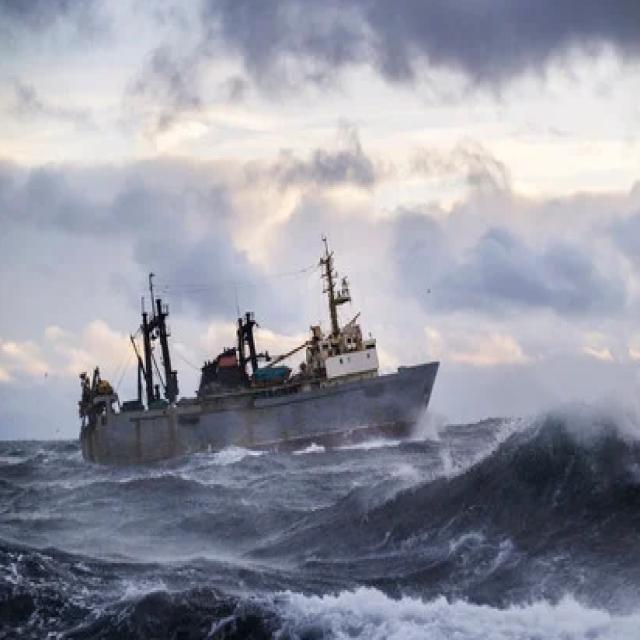fishing boat: (74, 253, 454, 462)
